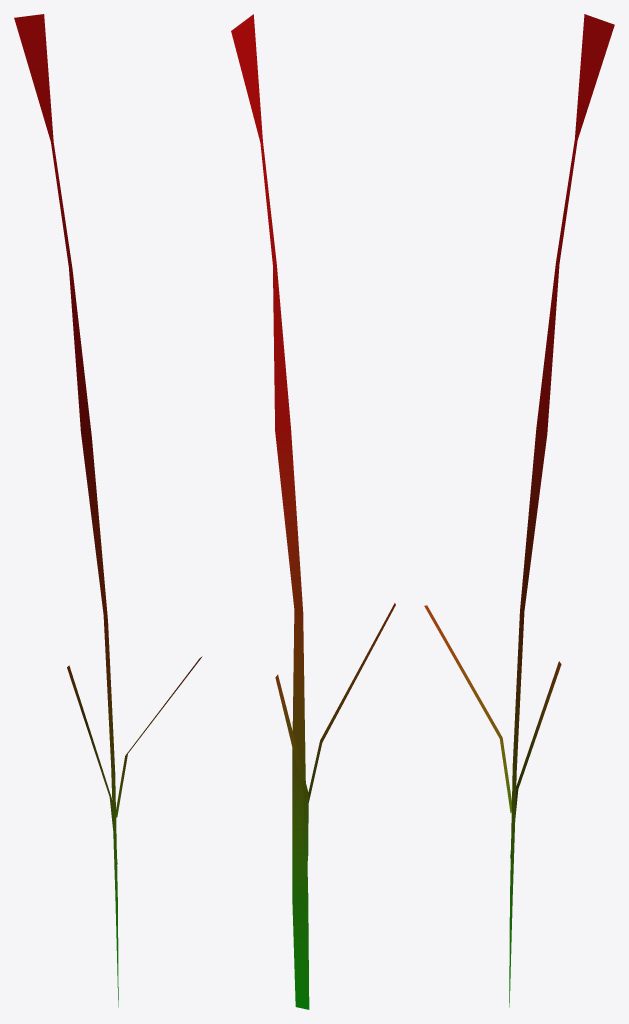
The model's file is Tundra Grass_LOD6_Var35_wk2oaeyqx.fbx.
3 views of the same model, side by side, from view 1: azimuth 90°, elevation 25°; view 2: azimuth 150°, elevation 25°; view 3: azimuth 270°, elevation 25° (orthographic). The views are drawn at different scales.
Visible parts, largest first — view 1: _blk9_Var35_LOD6; view 2: _blk9_Var35_LOD6; view 3: _blk9_Var35_LOD6.
Part boxes in pixels (left/top/right/bottom): _blk9_Var35_LOD6: left=14, top=14, right=202, bottom=1007; _blk9_Var35_LOD6: left=231, top=14, right=395, bottom=1009; _blk9_Var35_LOD6: left=424, top=14, right=614, bottom=1007.
Bounding box in the file's own units: 3.51 × 49.54 × 8.58.
